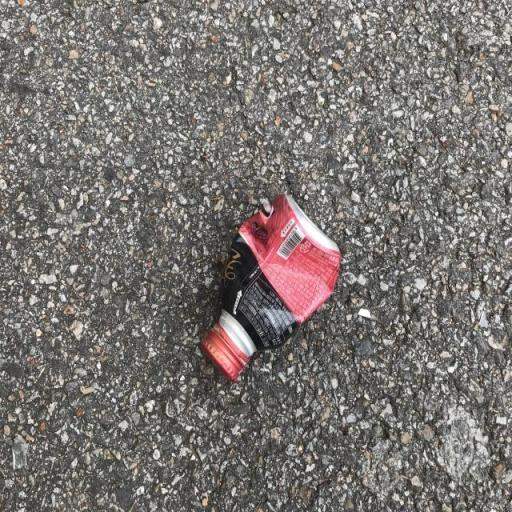metal: (147, 170, 371, 403)
